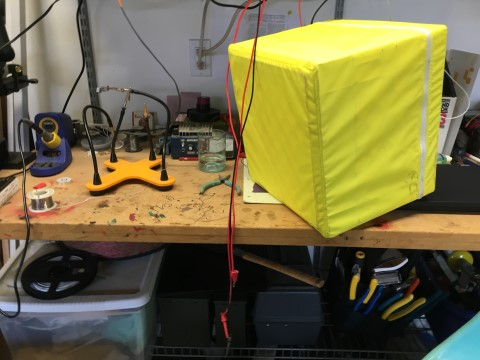cube: (228, 19, 448, 240)
